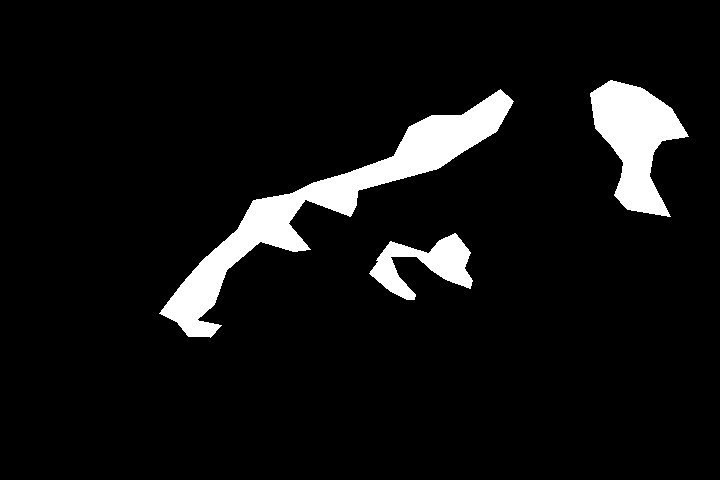Fire: (120, 101, 311, 252)
